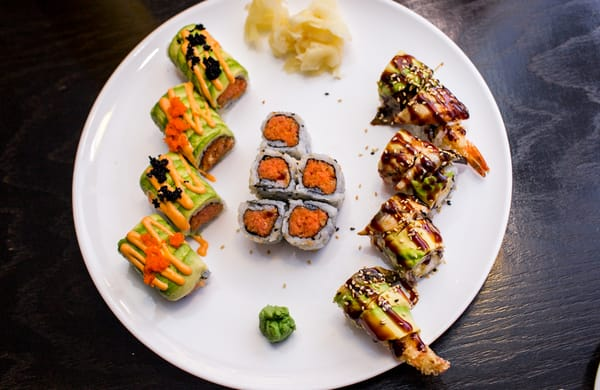curry: (258, 305, 297, 344)
